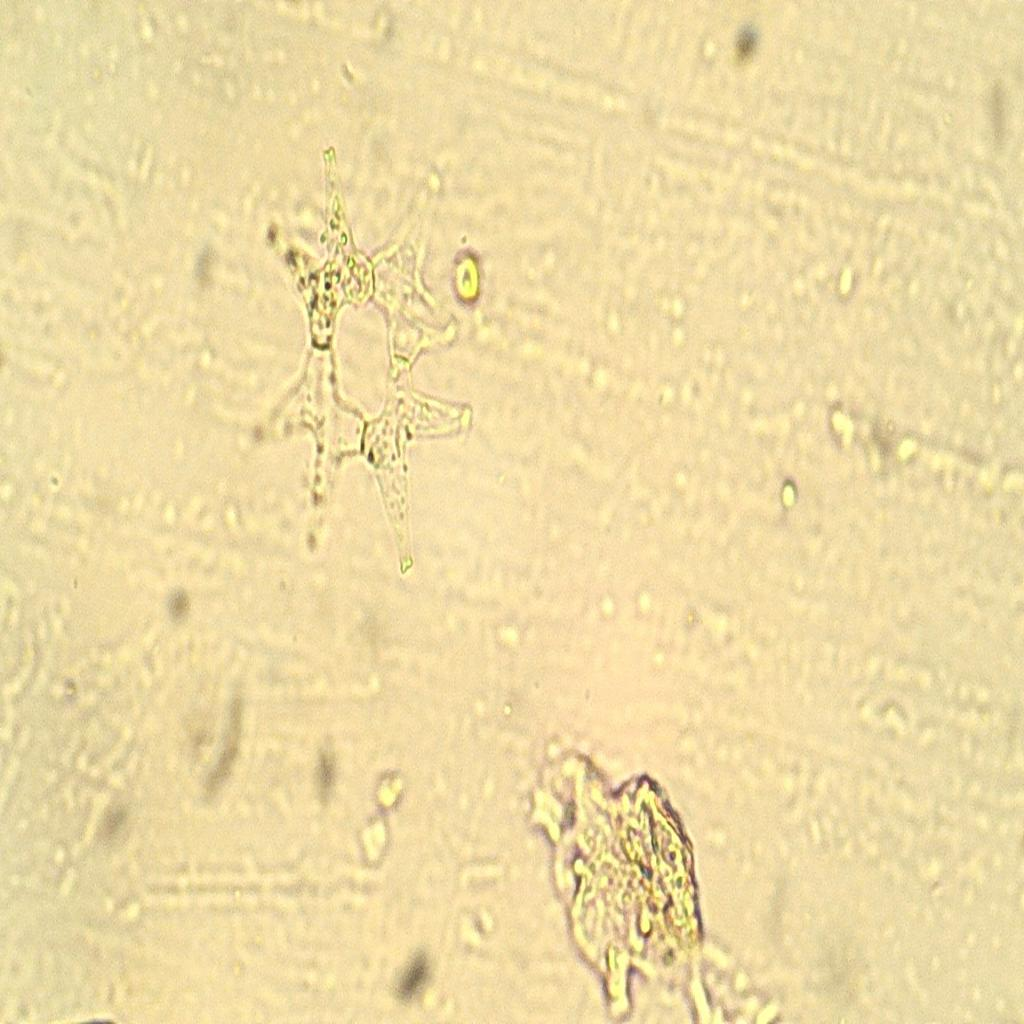Pediastrum_75TH: (234, 133, 496, 585)
